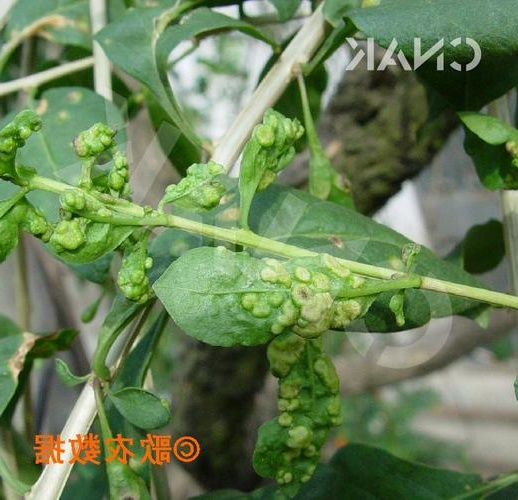Gall_Mite: (0, 103, 314, 286), (245, 237, 443, 485)
